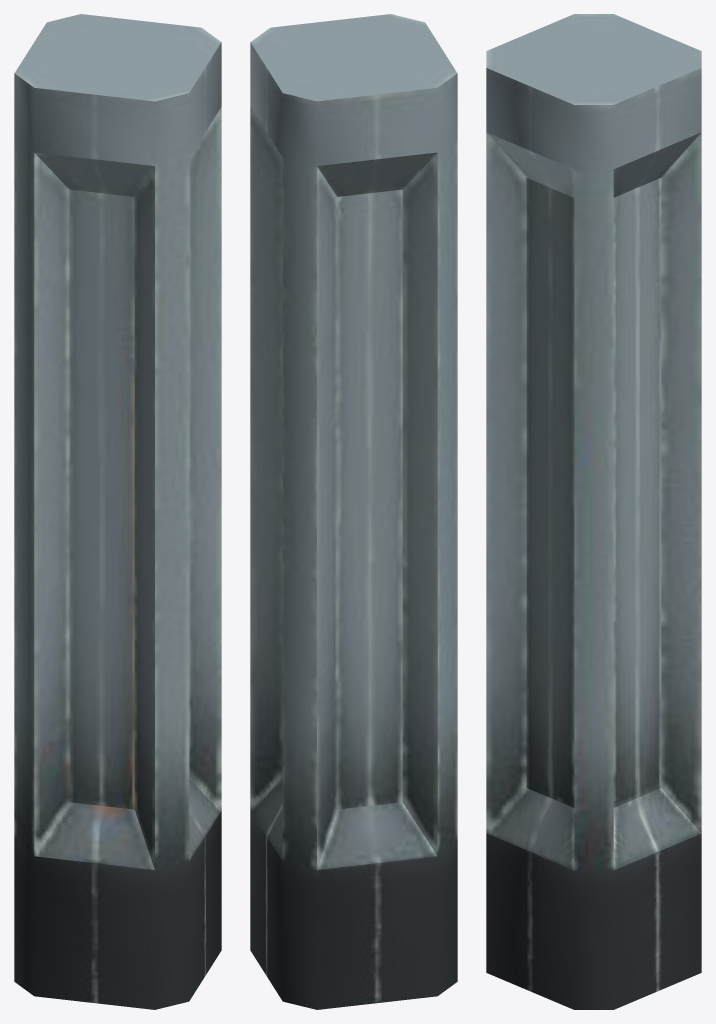
Rendered from pillar.glb.
3 renders of one model, left to right at view 1: azimuth 30°, elevation 25°; view 2: azimuth 150°, elevation 25°; view 3: azimuth 270°, elevation 25°, orthographic.
Parts seen in each view (by area): view 1: Post_1.001; view 2: Post_1.001; view 3: Post_1.001.
Part boxes in pixels (x1=…): Post_1.001: x1=14, y1=14, x2=221, y2=1009; Post_1.001: x1=250, y1=14, x2=457, y2=1009; Post_1.001: x1=486, y1=14, x2=701, y2=1009.
Size of the model in its own units: 0.69 by 3.2 by 0.69.
1 material, 1 textured.
